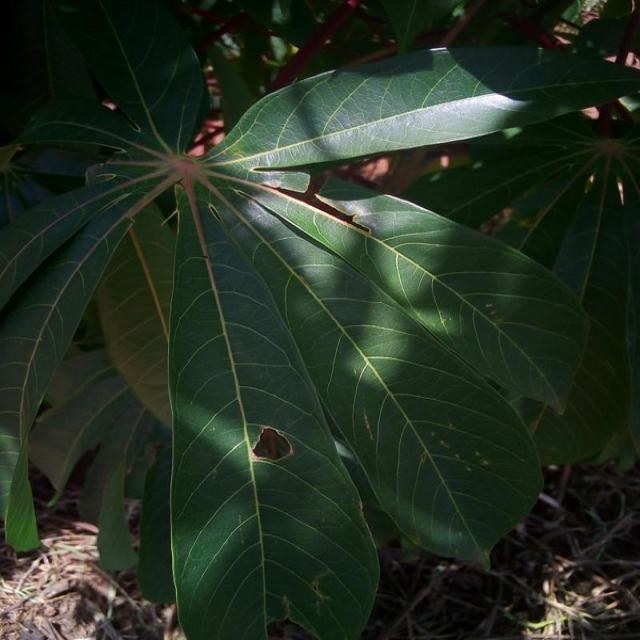cassava leaf: (1, 7, 636, 637), (166, 177, 380, 638)
